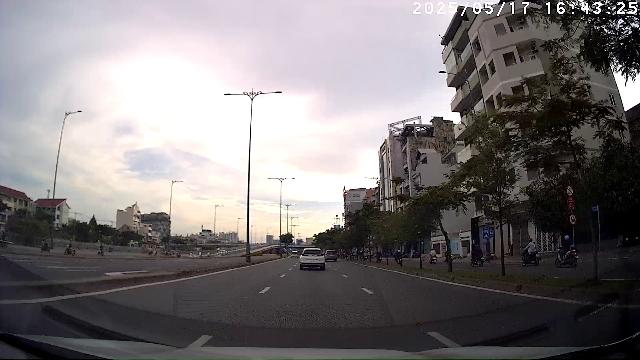127-toc-do-toi-da-50: (569, 214, 577, 225)
